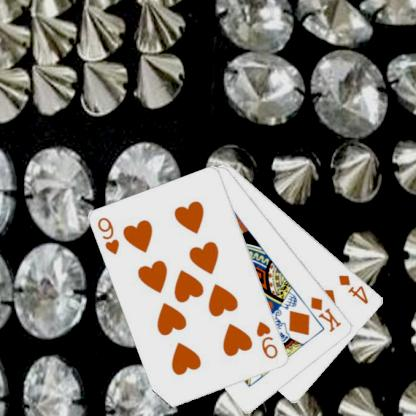4D: (336, 272, 370, 305)
9H: (253, 318, 280, 361), (95, 214, 121, 257)
KD: (308, 293, 343, 334)
